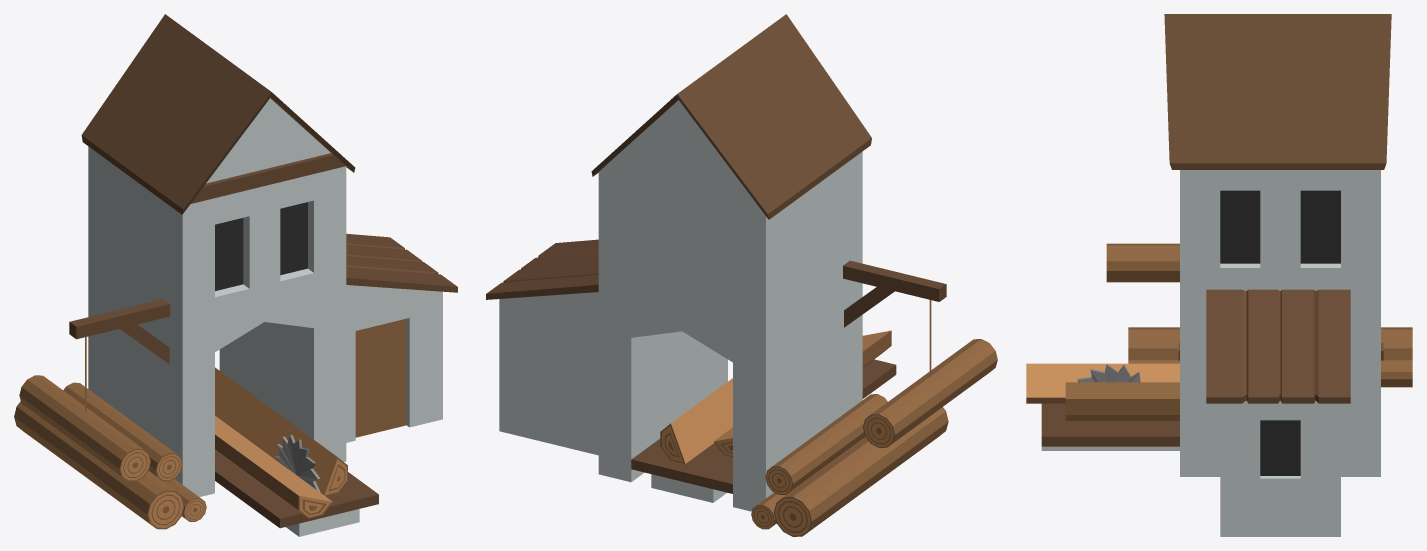
Rendered from SawMill_mat.fbx.
3 renders of one model, left to right at view 1: azimuth 30°, elevation 25°; view 2: azimuth 150°, elevation 25°; view 3: azimuth 270°, elevation 25°, orthographic. The views are drawn at different scales.
Visible parts, largest first — view 1: SawMill_mat; view 2: SawMill_mat; view 3: SawMill_mat.
Part boxes in pixels (left/top/right/bottom): SawMill_mat: left=14, top=14, right=457, bottom=536; SawMill_mat: left=486, top=14, right=997, bottom=536; SawMill_mat: left=1026, top=14, right=1412, bottom=536.
Size of the model in its own units: 3.86 by 3.86 by 3.15.
